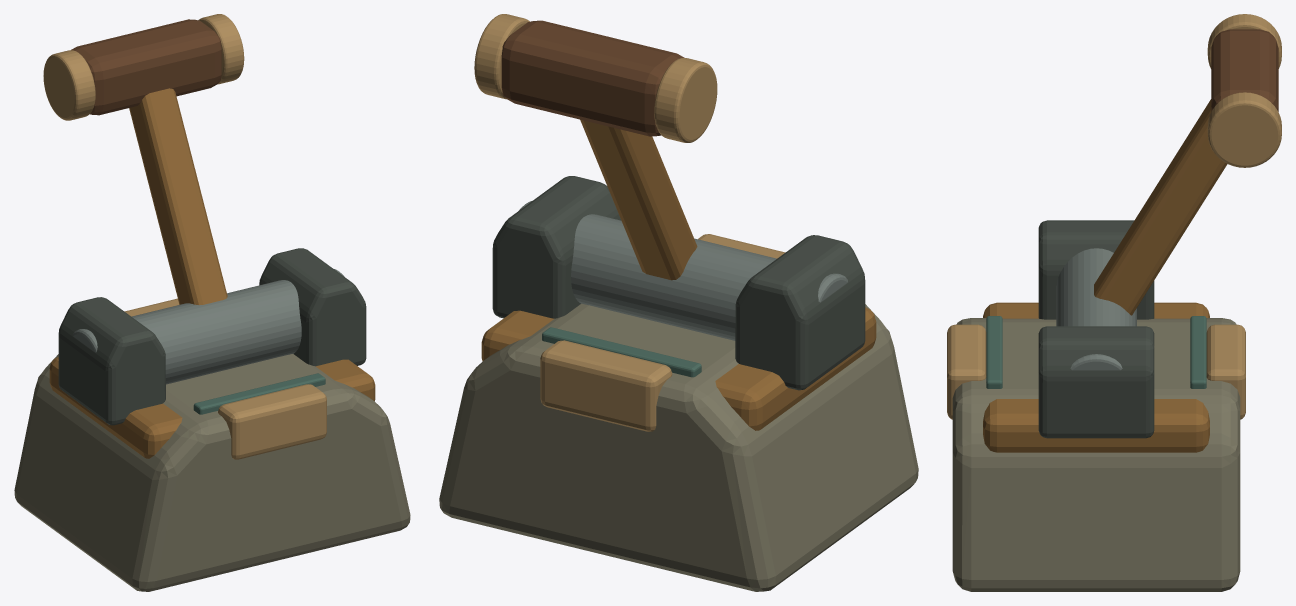
The model's file is VAULT_LEVER.hi.glb.
3 renders of one model, left to right at view 1: azimuth 30°, elevation 25°; view 2: azimuth 150°, elevation 25°; view 3: azimuth 270°, elevation 25°, orthographic. The views are drawn at different scales.
Visible parts, largest first — view 1: Body_Mesh, LeverPivot_Mesh; view 2: Body_Mesh, LeverPivot_Mesh; view 3: Body_Mesh, LeverPivot_Mesh.
Part boxes in pixels (box(x1,y1,x2,y2)): Body_Mesh: box(14, 248, 410, 591); LeverPivot_Mesh: box(43, 14, 244, 305); Body_Mesh: box(439, 176, 918, 591); LeverPivot_Mesh: box(474, 14, 717, 280); Body_Mesh: box(947, 220, 1245, 591); LeverPivot_Mesh: box(1094, 14, 1281, 315).
Size of the model in its own units: 0.7429 by 1.11 by 0.7225.
